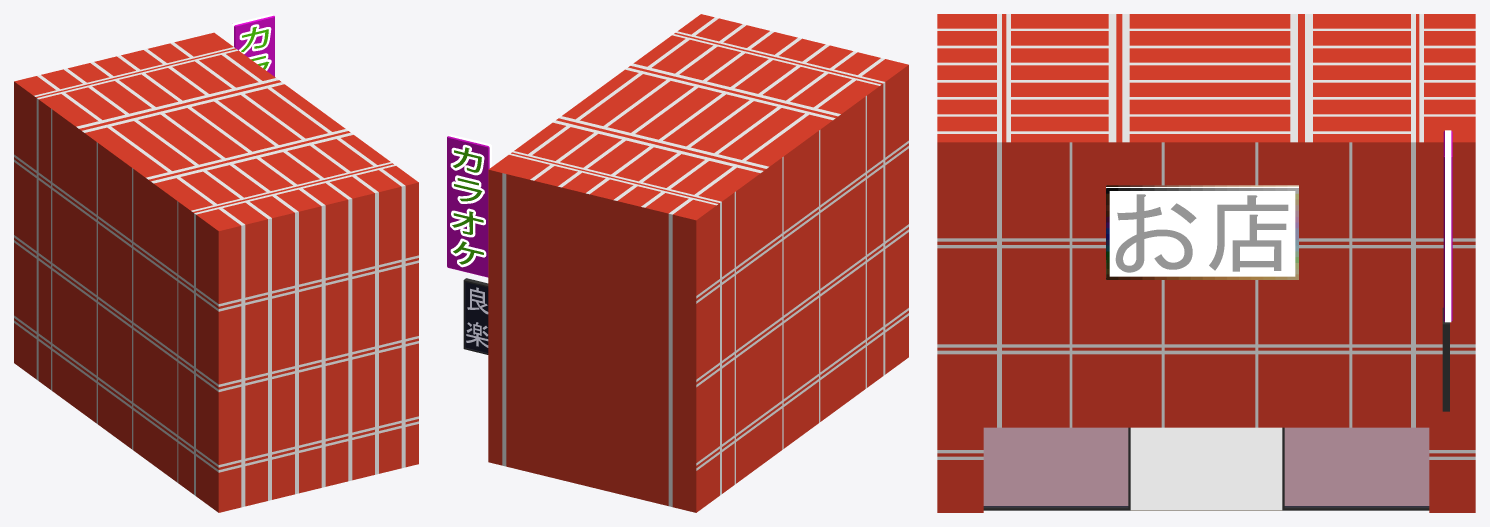
Rendered from red-orange.glb.
3 renders of one model, left to right at view 1: azimuth 30°, elevation 25°; view 2: azimuth 150°, elevation 25°; view 3: azimuth 270°, elevation 25°, orthographic. The views are drawn at different scales.
Visible parts, largest first — view 1: Plane.010; view 2: Plane.010; view 3: Plane.010.
Part boxes in pixels (x1,y1,x2,y2): Plane.010: (14,14,418,512); Plane.010: (447,14,908,512); Plane.010: (937,14,1475,512).
Bounding box in the file's own units: 10.34 × 11.7 × 14.7.
Materials: 9 (2 with a texture image).
